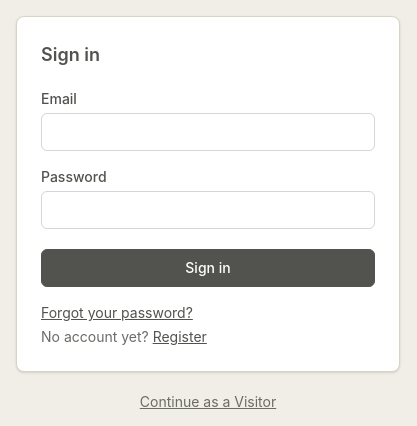
Test case: LoginPage › disables the button while the request is in flight, so a double-click cannot double-submit
Type "visitor@example.com" into the field labelled "Email". click: (208, 132)
box: [41,113,375,151]
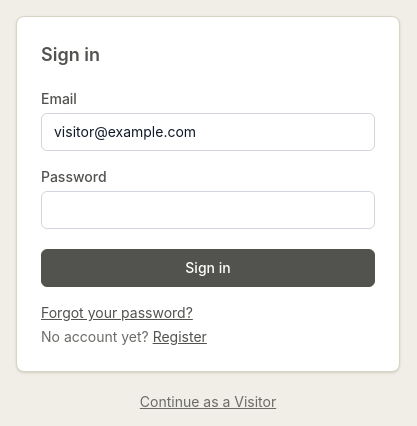
Type "correct-horse" into the password field labelled "Password". click: (208, 210)
box: [41,191,375,229]
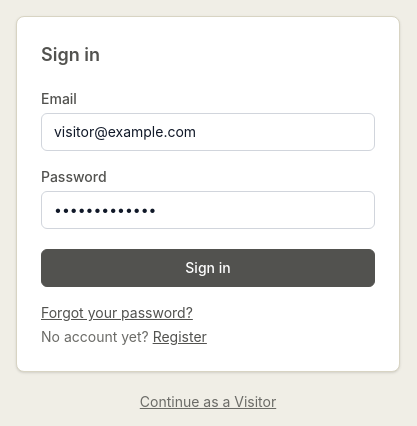
Click the button "Sign in". click: (208, 268)
box: [41,249,375,287]
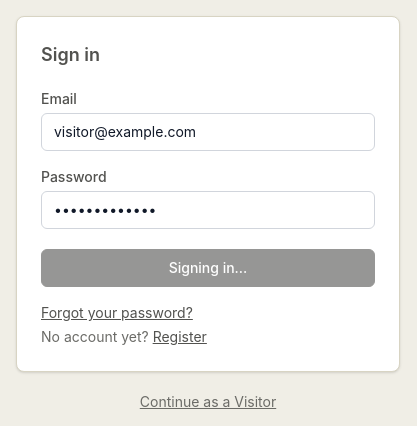
Result: the button "Signing in…" is disabled at [41,249,375,287]
